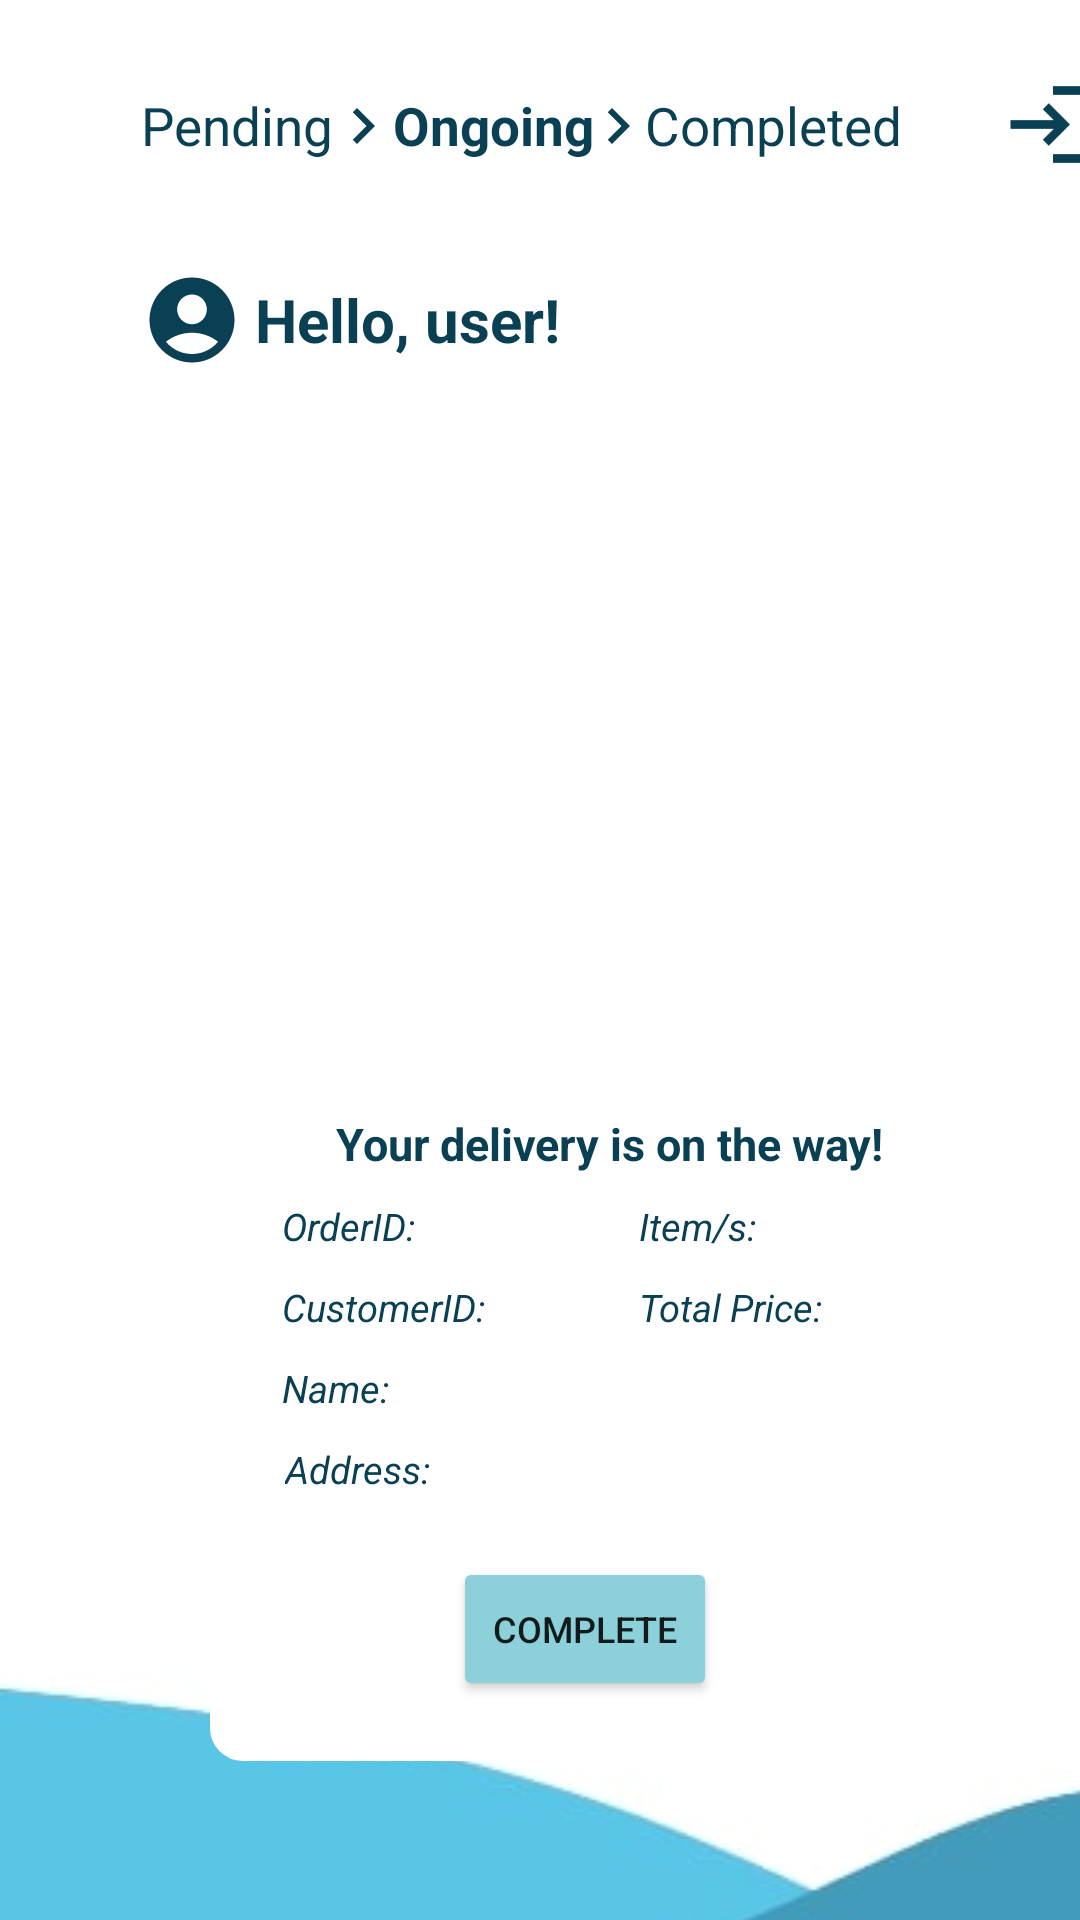

Screen size 1080×1920. Icon name, then its center in pixels as (x=x, y=y):
account circle: (x=192, y=320)
